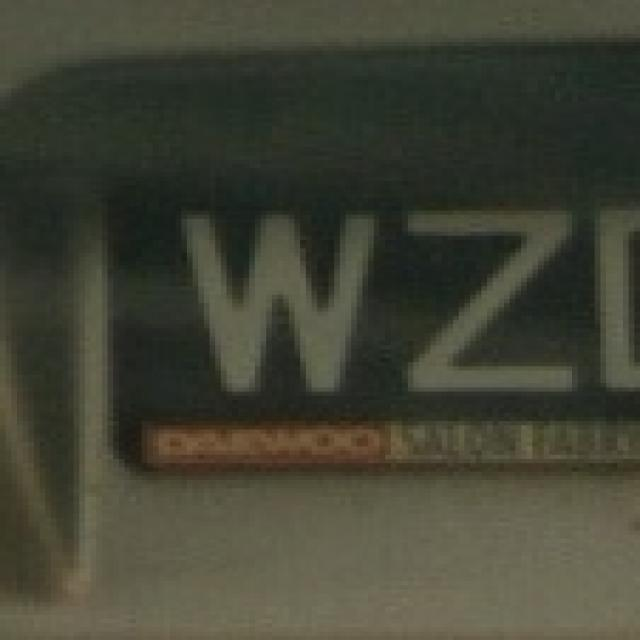licenseplate: (93, 173, 640, 479)
